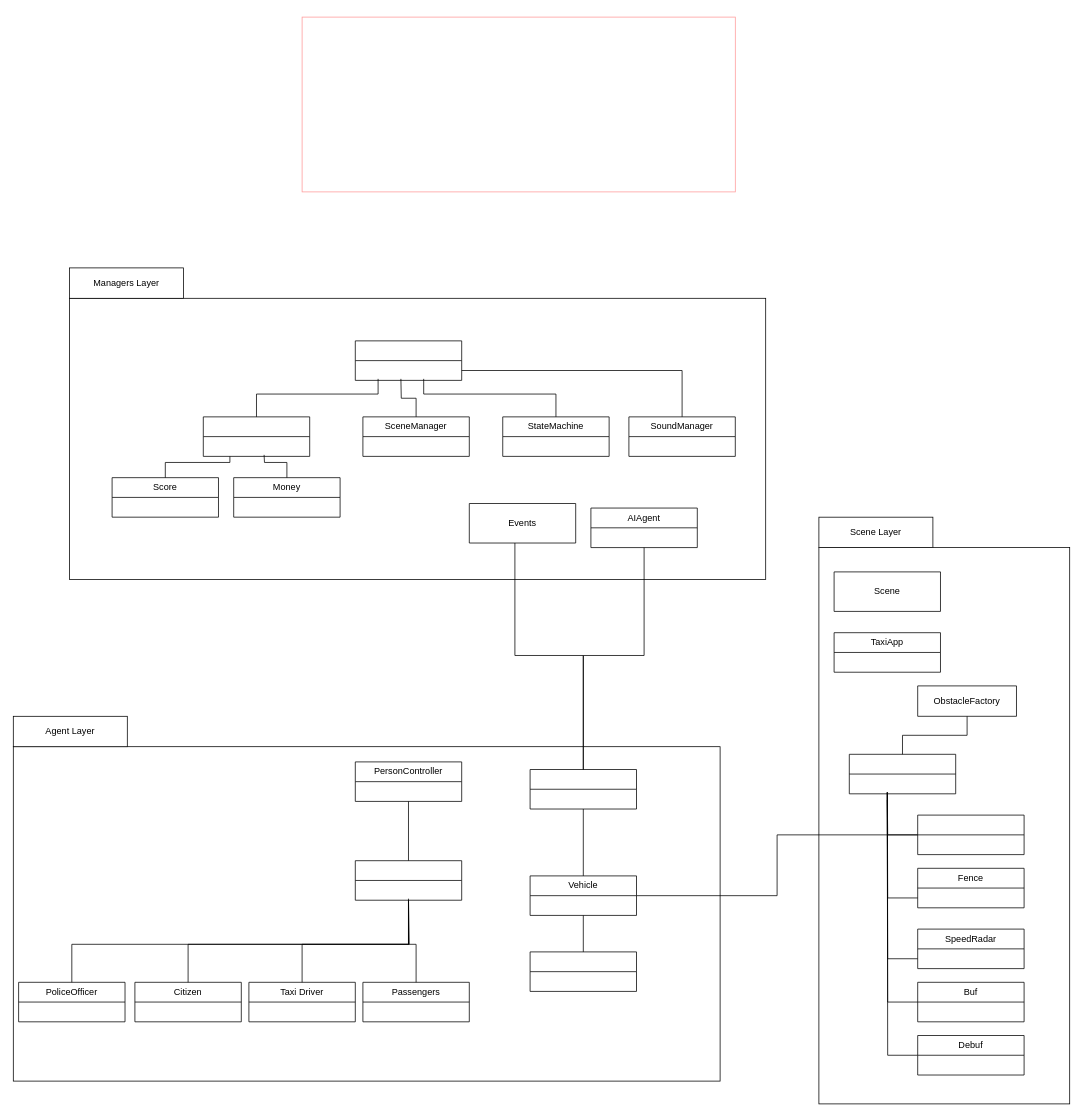
The diagram is 1083 pixels wide and 1117 high, and some of its shapes have lost their labels. The shapes that lost their labels are listed below. From the top down, each one's centre as x and y in pixels, then its label:
At (x=518, y=104): "Draft".
At (x=408, y=360): "GameManager".
At (x=256, y=436): "DataManager".
At (x=582, y=789): "VehicleController".
At (x=902, y=774): "Obstacle".
At (x=970, y=834): "PoliceCar".
At (x=408, y=880): "Person".
At (x=582, y=971): "Taxi".
